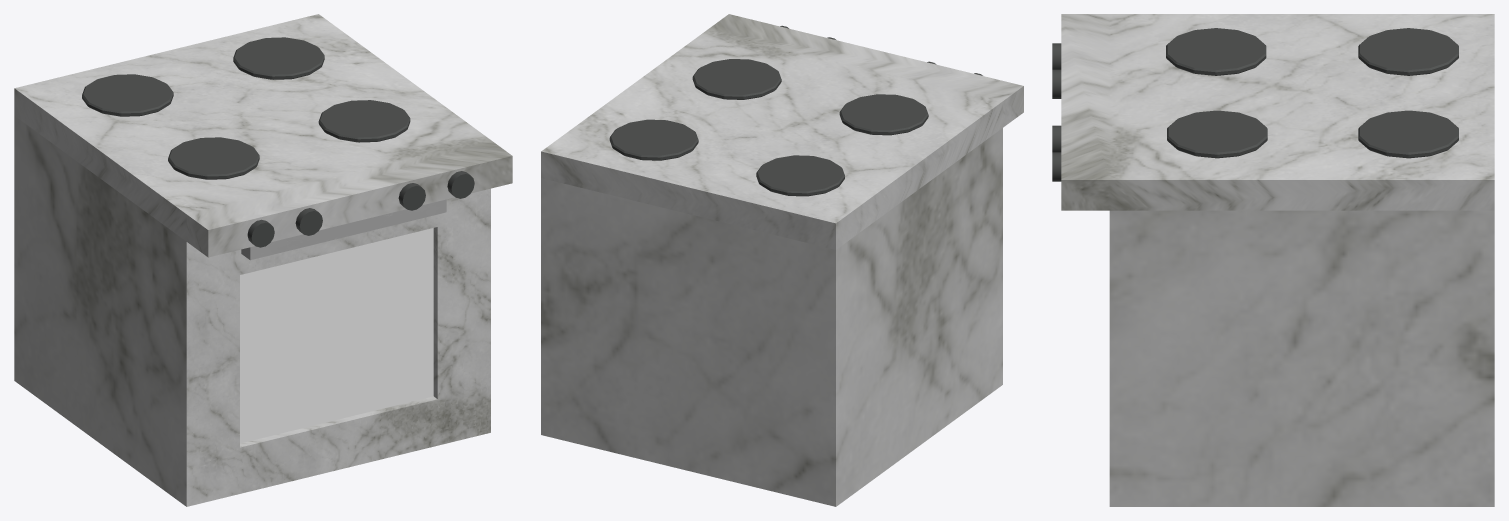
Rendered from Oven.fbx.
The picture shows the model from 3 angles, left to right: view 1: azimuth 30°, elevation 25°; view 2: azimuth 150°, elevation 25°; view 3: azimuth 270°, elevation 25°; orthographic projection. The views are drawn at different scales.
Visible parts, largest first — view 1: RT_IP_Furniture:Oven, OvenStove1, RT_IP_Furniture:OvenStove, OvenStove, OvenStove2, RT_IP_Furniture:Handle10, OvenKnob2, OvenKnob, RT_IP_Furniture:OvenKnob, OvenKnob1; view 2: RT_IP_Furniture:Oven, RT_IP_Furniture:OvenStove, OvenStove1, OvenStove, OvenStove2; view 3: RT_IP_Furniture:Oven, OvenStove2, OvenStove1, RT_IP_Furniture:OvenStove, OvenStove.
Boxes of the visible parts, left/top/right/bottom form: RT_IP_Furniture:Oven: left=14, top=14, right=512, bottom=506; OvenStove1: left=233, top=37, right=324, bottom=79; RT_IP_Furniture:OvenStove: left=168, top=137, right=259, bottom=179; OvenStove: left=82, top=74, right=173, bottom=116; OvenStove2: left=318, top=100, right=410, bottom=142; RT_IP_Furniture:Handle10: left=241, top=199, right=446, bottom=260; OvenKnob2: left=447, top=171, right=474, bottom=198; OvenKnob: left=247, top=219, right=274, bottom=247; RT_IP_Furniture:OvenKnob: left=295, top=208, right=322, bottom=235; OvenKnob1: left=398, top=183, right=425, bottom=210; RT_IP_Furniture:Oven: left=541, top=14, right=1023, bottom=506; RT_IP_Furniture:OvenStove: left=839, top=94, right=928, bottom=135; OvenStove1: left=609, top=119, right=698, bottom=160; OvenStove: left=756, top=155, right=844, bottom=196; OvenStove2: left=692, top=59, right=781, bottom=99; RT_IP_Furniture:Oven: left=1061, top=14, right=1494, bottom=506; OvenStove2: left=1167, top=110, right=1267, bottom=158; OvenStove1: left=1358, top=110, right=1458, bottom=158; RT_IP_Furniture:OvenStove: left=1166, top=28, right=1266, bottom=75; OvenStove: left=1358, top=28, right=1458, bottom=75.
Bounding box in the file's own units: 1.09 × 1.02 × 1.23.
